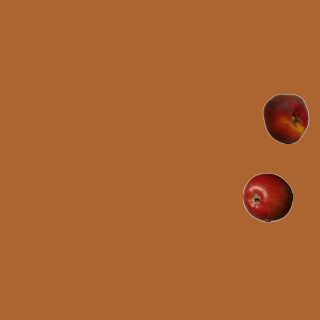Apple Braeburn: (242, 172, 292, 222)
Nectarine Flat: (260, 93, 310, 143)
